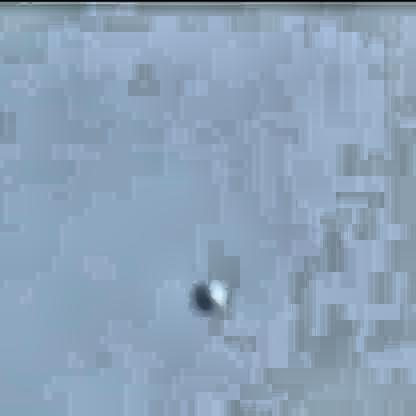golfball: (192, 274, 222, 310)
